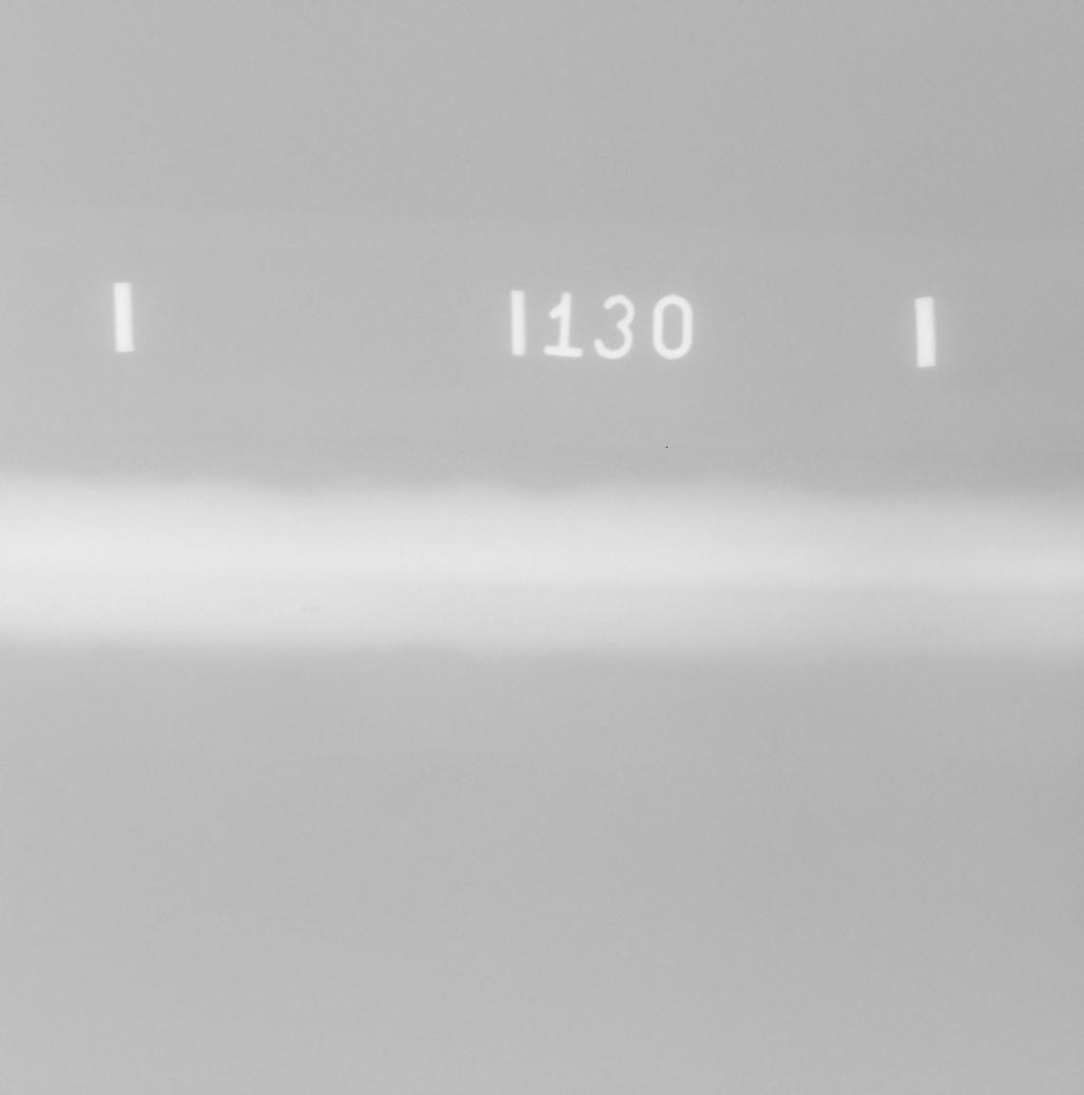Inclusion: (301, 603, 317, 614)
Pore/Porosity: (250, 599, 254, 604)
